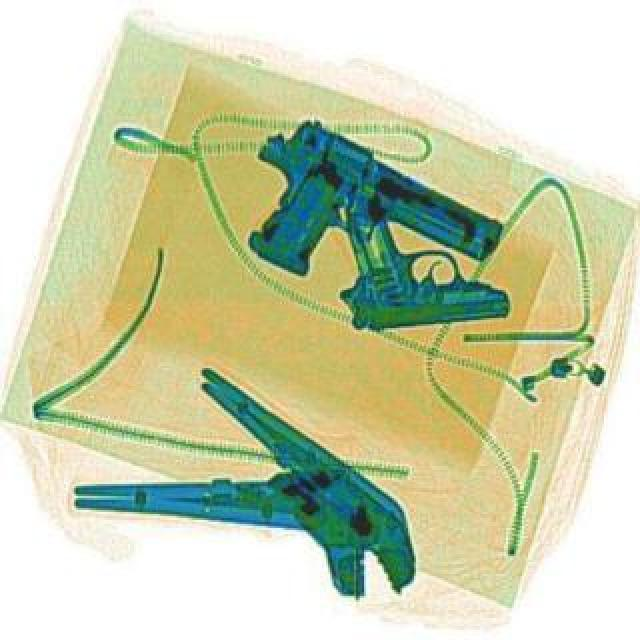gun: (206, 106, 508, 346), (340, 192, 508, 332)
